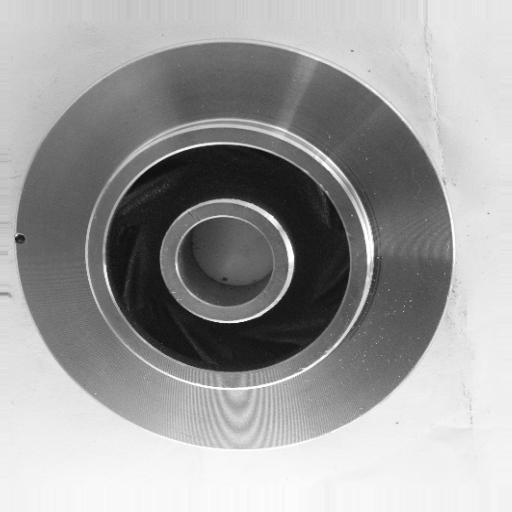pit: (9, 226, 37, 253)
unpolished_casting: (15, 39, 454, 454)
